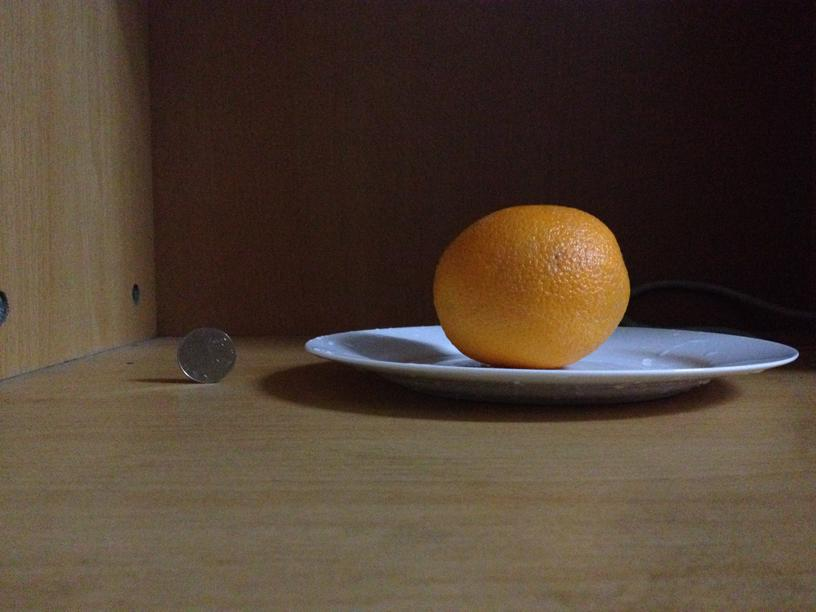coin: (174, 323, 238, 383)
orange: (430, 200, 633, 361)
